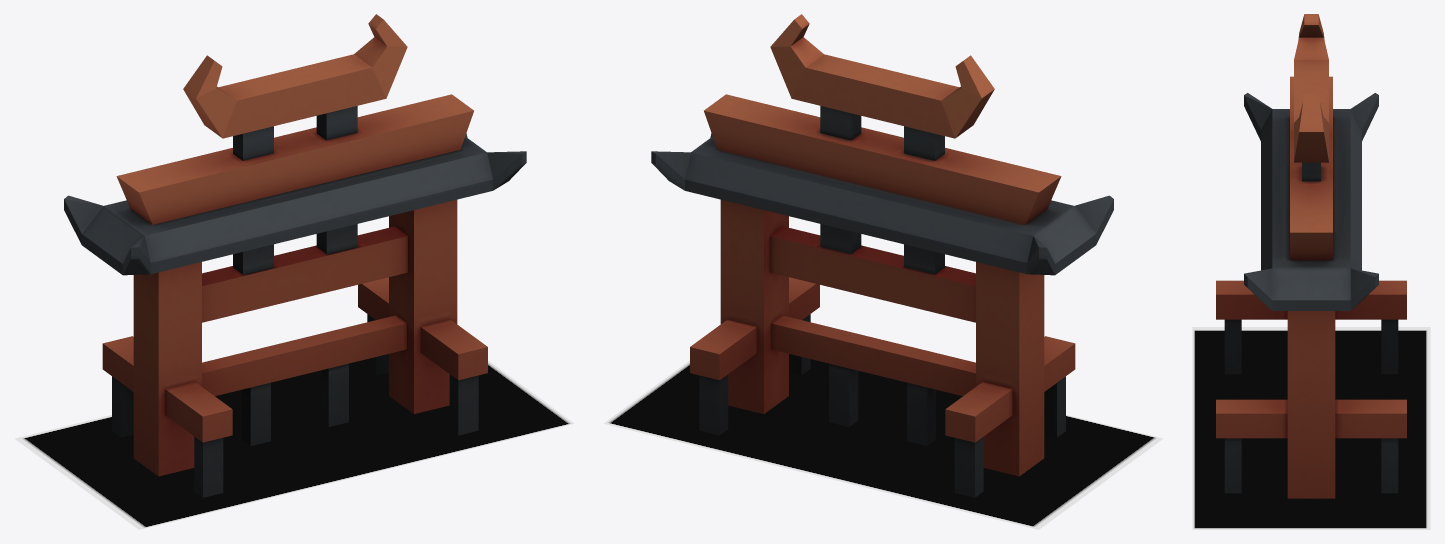
Rendered from 2x1_gate.FBX.
3 renders of one model, left to right at view 1: azimuth 30°, elevation 25°; view 2: azimuth 150°, elevation 25°; view 3: azimuth 270°, elevation 25°, orthographic. The views are drawn at different scales.
Visible parts, largest first — view 1: 2x1_gate, 2x1_gate_soft_shadow; view 2: 2x1_gate, 2x1_gate_soft_shadow; view 3: 2x1_gate, 2x1_gate_soft_shadow.
Boxes of the visible parts, bbox=[...] form: 2x1_gate: bbox=[64, 14, 526, 497]; 2x1_gate_soft_shadow: bbox=[15, 359, 574, 529]; 2x1_gate: bbox=[651, 14, 1113, 497]; 2x1_gate_soft_shadow: bbox=[603, 359, 1162, 529]; 2x1_gate: bbox=[1216, 14, 1406, 498]; 2x1_gate_soft_shadow: bbox=[1192, 327, 1430, 529].
Size of the model in its own units: 2592 by 2257 by 1286.
